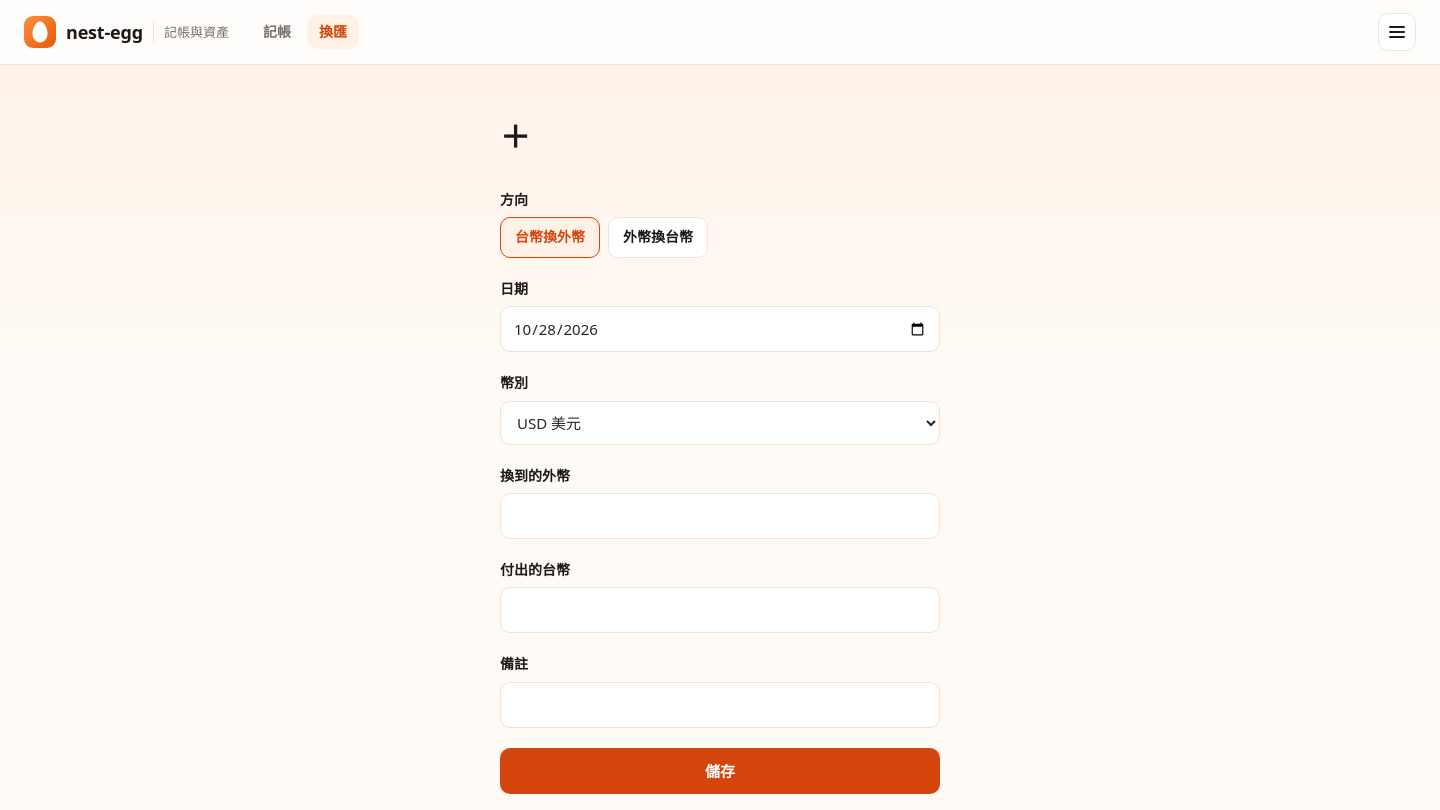
recording a trade › saves the trade and returns to its month
Type "1000" into the field labelled "換到的外幣" at point(720, 516), box [500, 493, 940, 539]
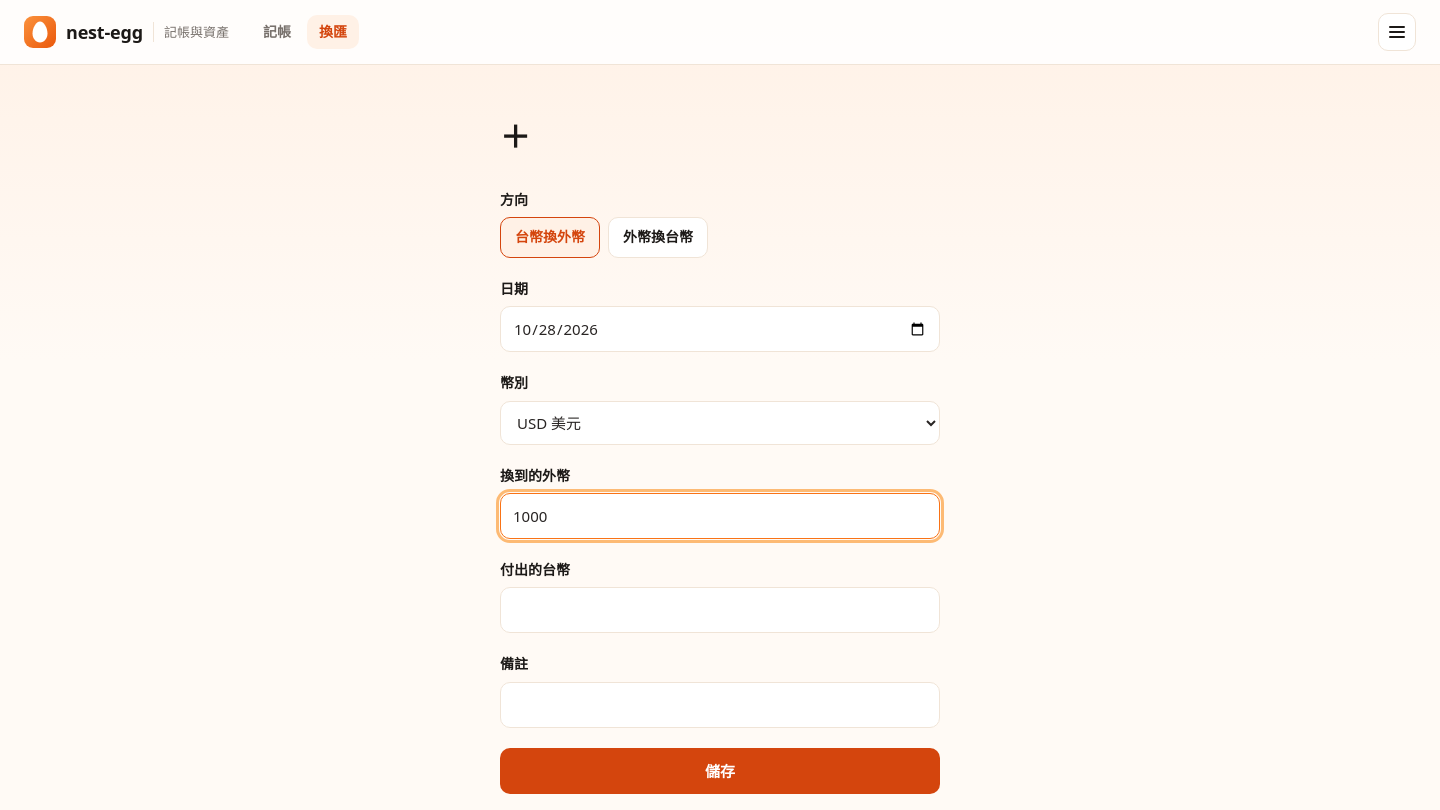
Type "32420" into the field labelled "付出的台幣" at point(720, 610), box [500, 587, 940, 633]
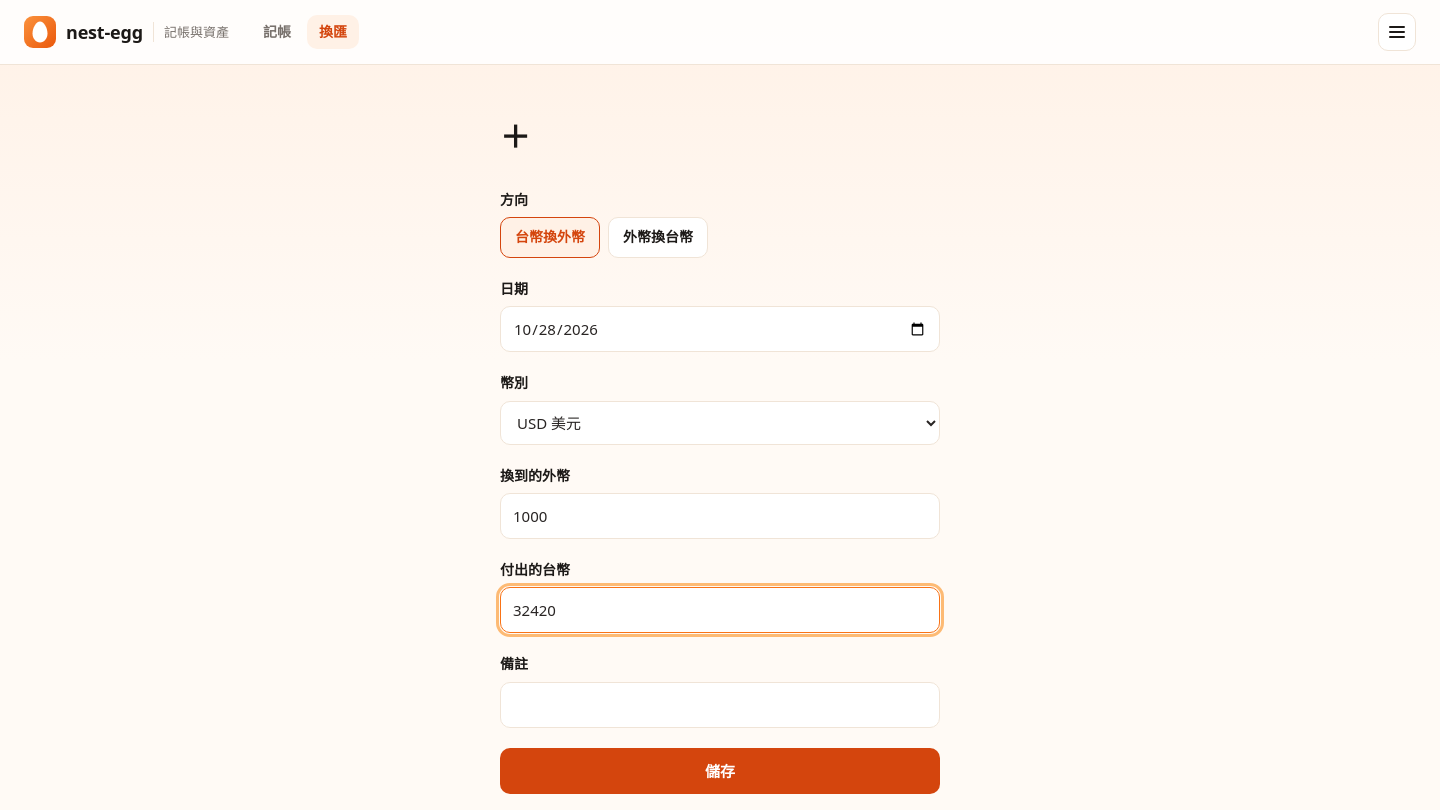
Type "10 月定期換匯" into the field labelled "備註" at point(720, 705), box [500, 682, 940, 728]
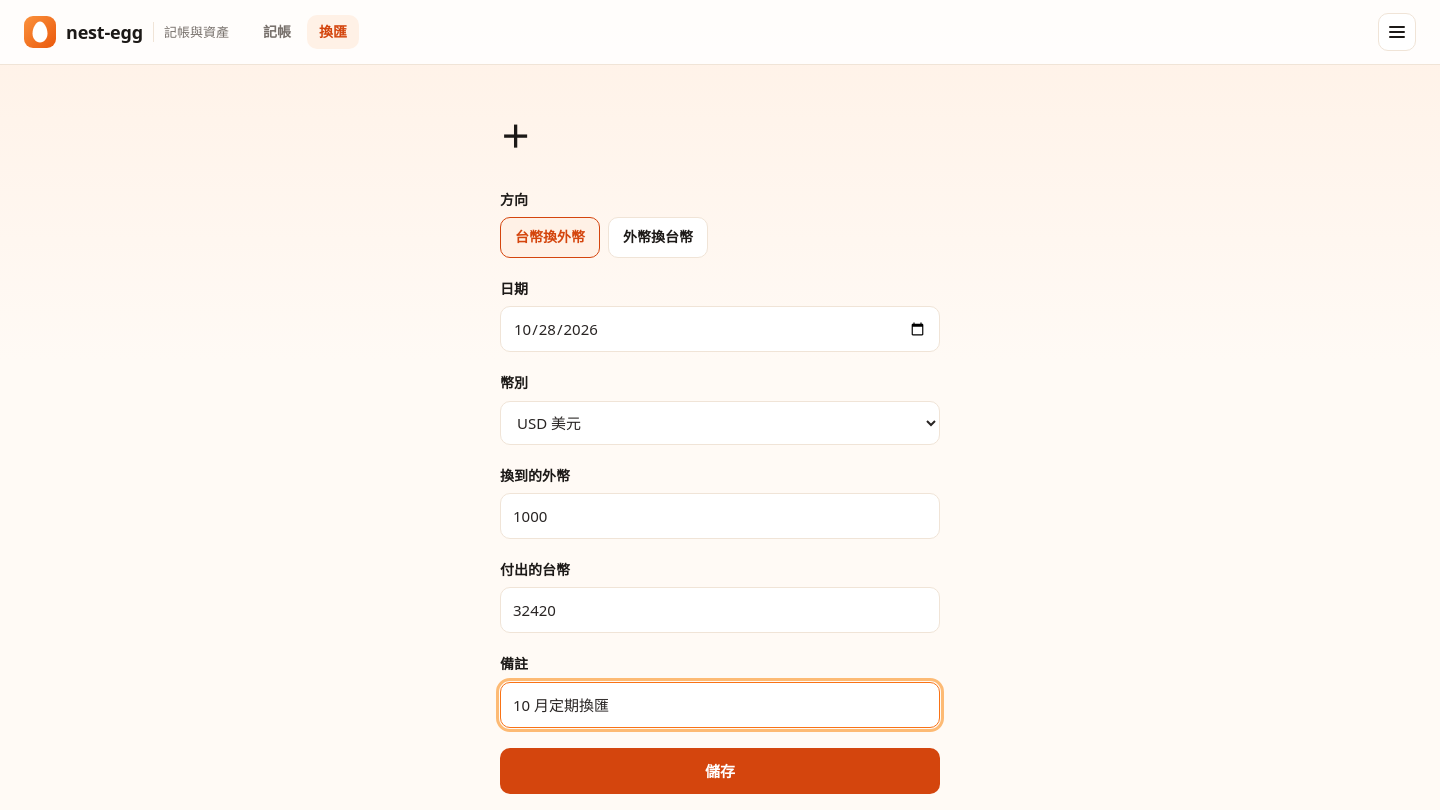
Click the button "儲存" at point(720, 771), box [500, 748, 940, 794]
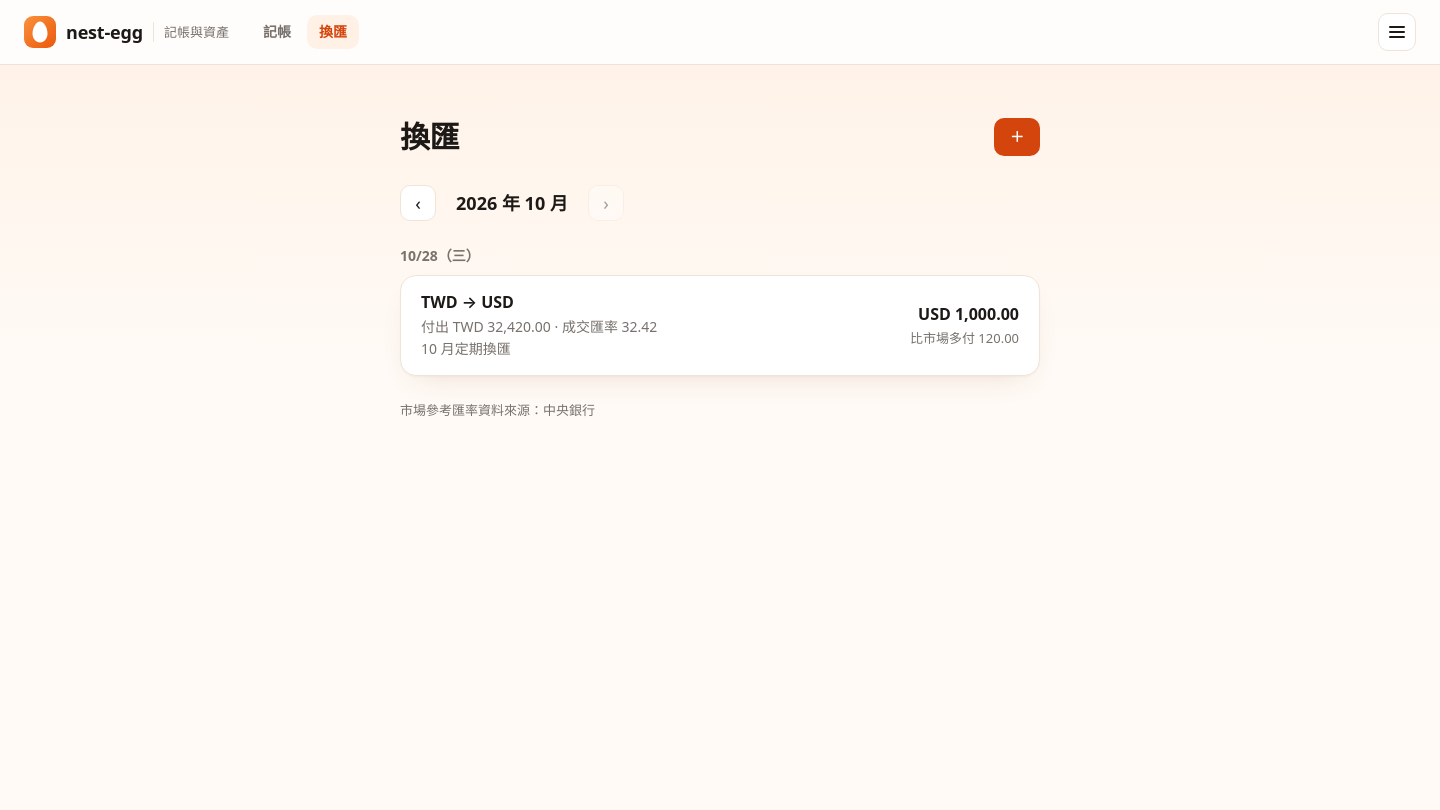
expect the text "10 月定期換匯" is shown: met, box [421, 339, 511, 358]
